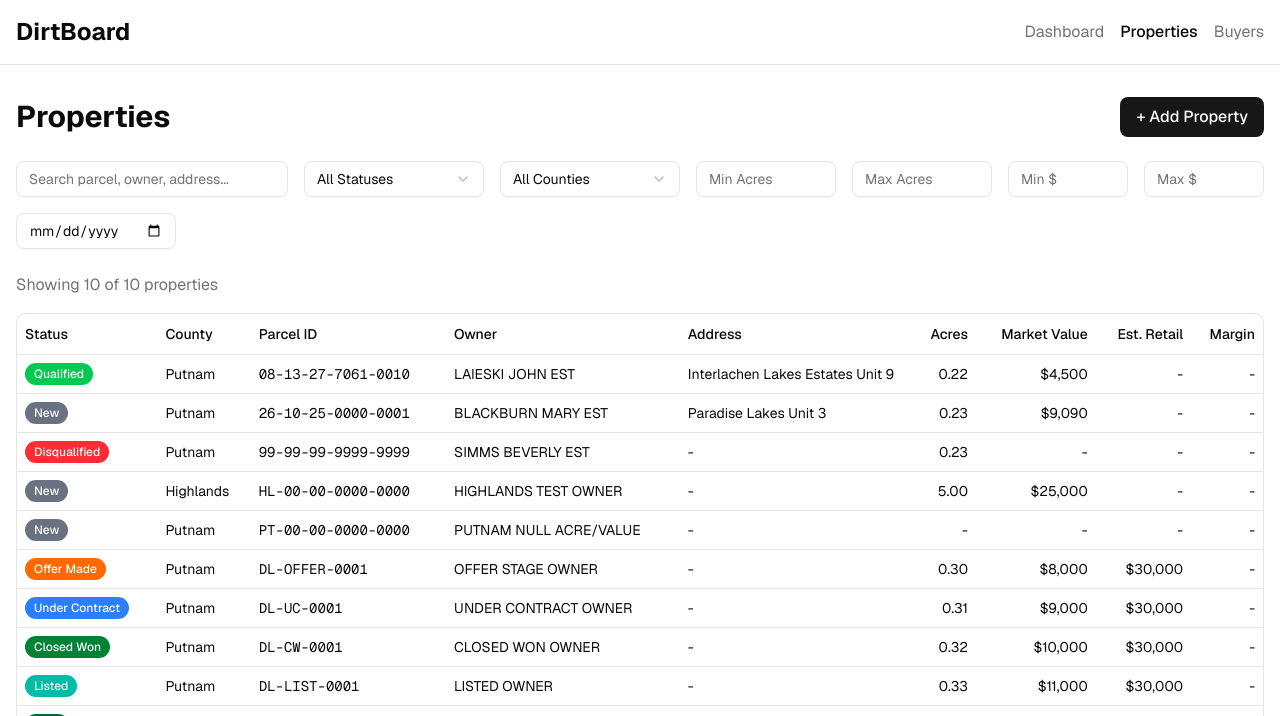
Properties Page › filters properties added on or after selected date
Type "2026-02-15" into the date field named "date added" at (96, 231), box [16,213,176,249]
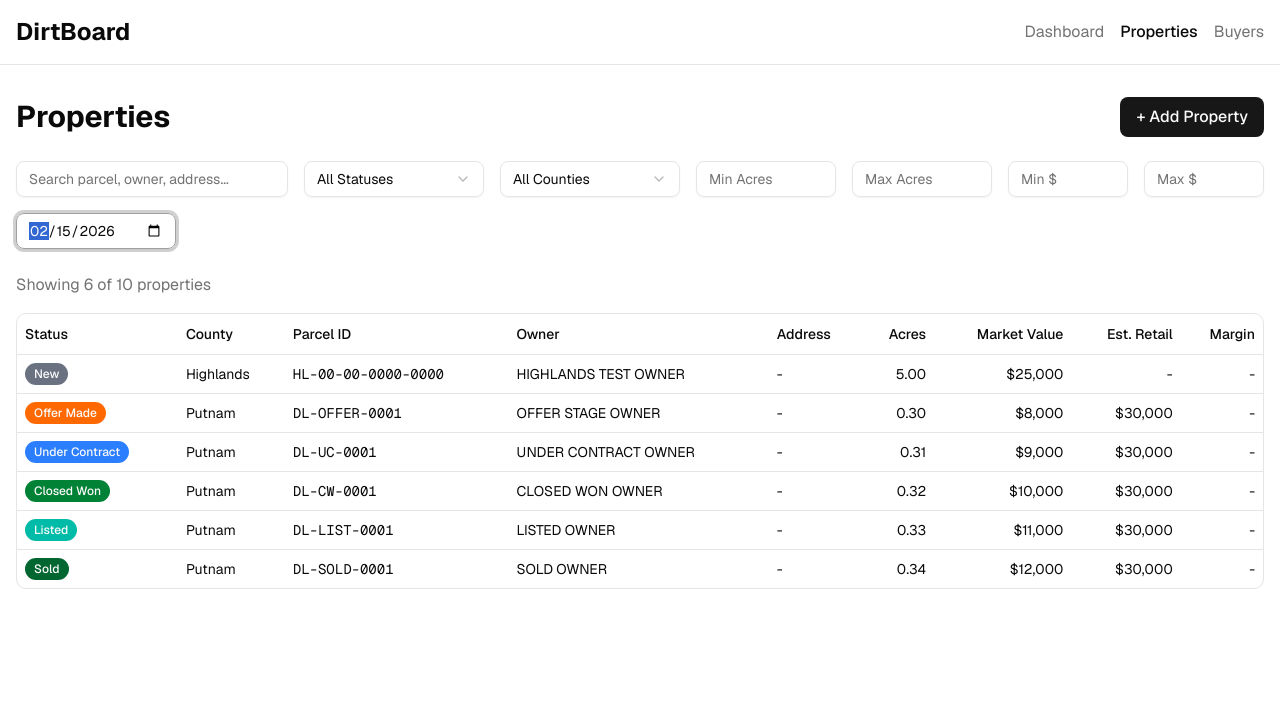
Check: the text "LAIESKI JOHN EST" is gone
Check: the text "BLACKBURN MARY EST" is gone
Check: the text "PUTNAM NULL ACRE/VALUE" is gone
